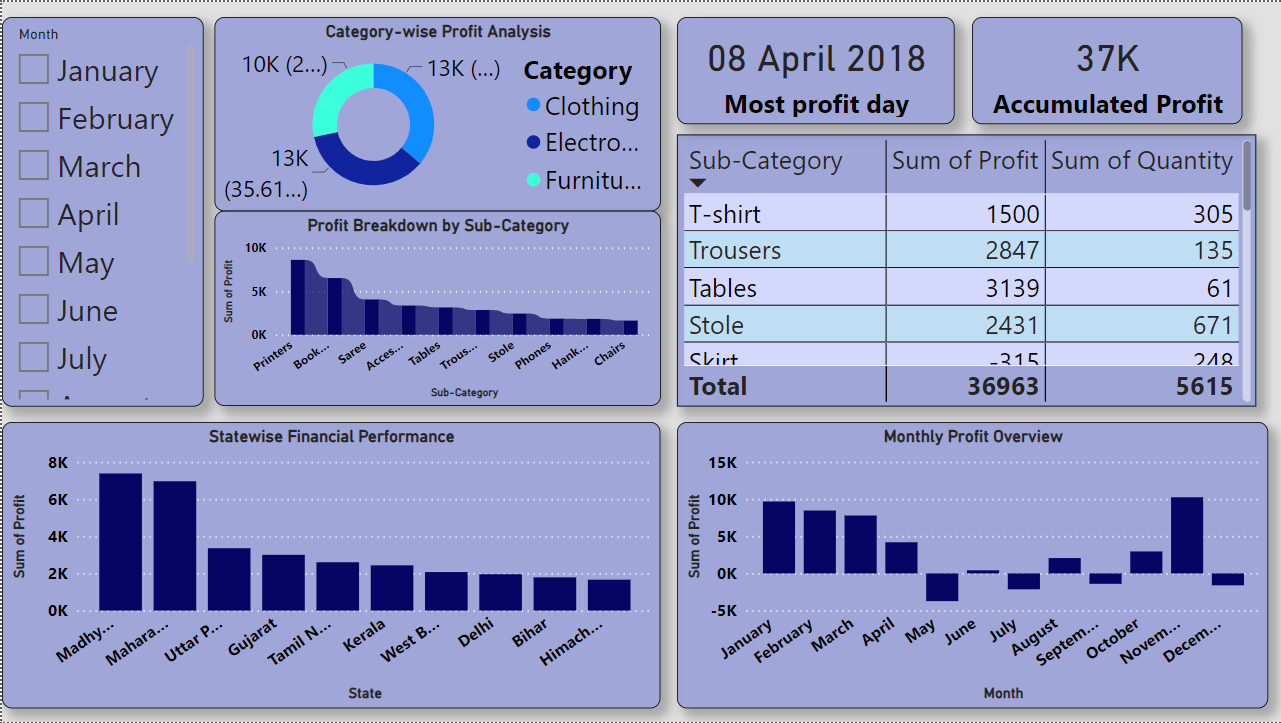

The page's visual inventory and layout, read from the dashboard file:
{"tool":"powerbi","page":{"name":"Profit analysis","canvas":[1280,720],"ordinal":1},"visuals":[{"type":"columnChart","title":"Monthly Profit Overview","fields":{"Category":["Orders.Order Date.Variation.Date Hierarchy.Month"],"Y":["Sum(Details.Profit)"]},"box":[674.6,419.4,591,286.6],"z":0},{"type":"tableEx","fields":{"Values":["Details.Sub-Category","Sum(Details.Profit)","Sum(Details.Quantity)"]},"box":[674.6,132.8,579.1,271.6],"z":1000},{"type":"card","fields":{"Values":["Sum(Details.Profit)"]},"box":[970.1,14.9,270.1,107.5],"z":2000},{"type":"slicer","fields":{"Values":["Orders.Order Date.Variation.Date Hierarchy.Month"]},"box":[0,14.9,201.5,389.6],"z":3000},{"type":"card","fields":{"Values":["Min(Orders.Order Date)"]},"box":[674.6,14.9,277.6,107.5],"z":4000},{"type":"donutChart","title":"Category-wise Profit Analysis","fields":{"Y":["Sum(Details.Profit)"],"Category":["Details.Category"]},"box":[211.9,14.9,446.3,194],"z":5000},{"type":"columnChart","title":"Statewise Financial Performance","fields":{"Category":["Orders.State"],"Y":["Sum(Details.Profit)"]},"box":[0,419.4,658.2,286.6],"z":6000},{"type":"ribbonChart","title":"Profit Breakdown by Sub-Category","fields":{"Y":["Sum(Details.Profit)"],"Category":["Details.Sub-Category"]},"box":[212,209,446,195],"z":7000}]}

Visuals, with their boxes in screenshot pixels (x1, y1, x2, y2), scaled from the page's 1280x720 canvas onto the 1281x723 screenshot:
"Monthly Profit Overview" columnChart: bbox=[675, 421, 1267, 709]
tableEx - Details.Sub-Category x Sum(Details.Profit): bbox=[675, 133, 1255, 406]
card - Sum(Details.Profit): bbox=[971, 15, 1241, 123]
slicer - Orders.Order Date.Variation.Date Hierarchy.Month: bbox=[0, 15, 202, 406]
card - Min(Orders.Order Date): bbox=[675, 15, 953, 123]
"Category-wise Profit Analysis" donutChart: bbox=[212, 15, 659, 210]
"Statewise Financial Performance" columnChart: bbox=[0, 421, 659, 709]
"Profit Breakdown by Sub-Category" ribbonChart: bbox=[212, 210, 659, 406]
